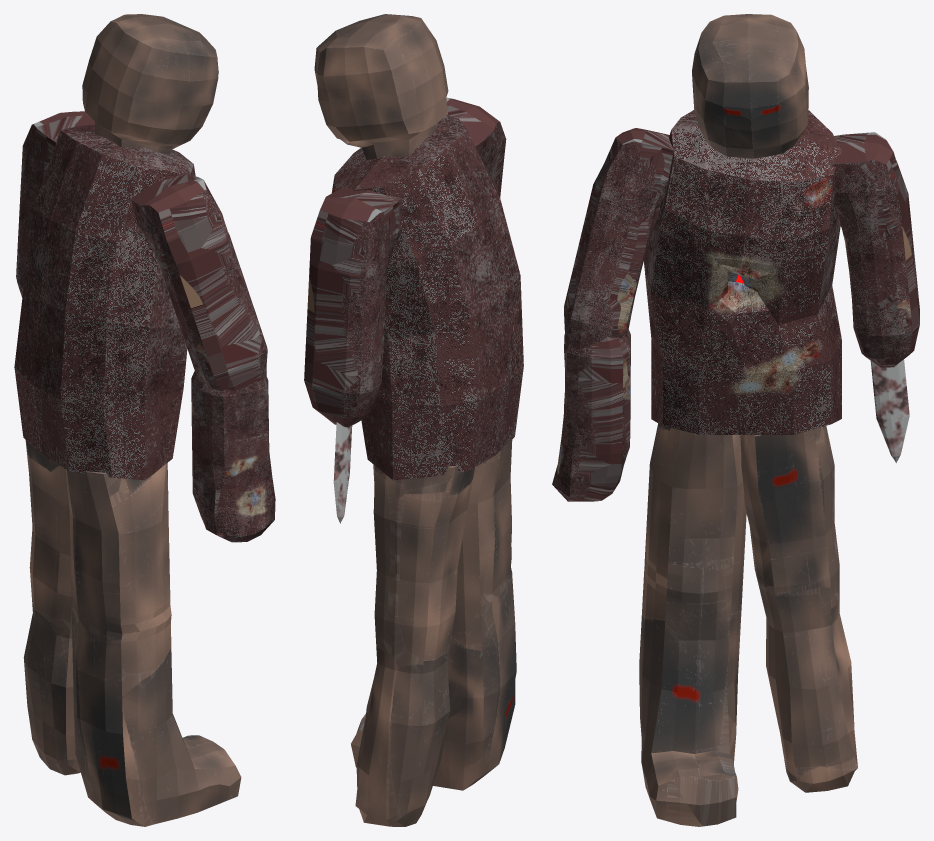
File: monsterTextured.fbx
The picture shows the model from 3 angles, left to right: view 1: azimuth 30°, elevation 25°; view 2: azimuth 150°, elevation 25°; view 3: azimuth 270°, elevation 25°; orthographic projection. The views are drawn at different scales.
Parts seen in each view (by area): view 1: Cube, Cube.018, Cube.017, Cube.001, Cube.026, Cube.016, Cube.002; view 2: Cube, Cube.026, Cube.018, Cube.002, Cube.001, Cube.017, Cube.007; view 3: Cube, Cube.018, Cube.026, Cube.002, Cube.001, Cube.017, Cube.016, Cube.007.
Part boxes in pixels (<box>): Cube: <box>14,124,195,480</box>; Cube.018: <box>65,463,241,826</box>; Cube.017: <box>131,173,267,391</box>; Cube.001: <box>82,14,218,154</box>; Cube.026: <box>23,440,80,775</box>; Cube.016: <box>191,371,275,542</box>; Cube.002: <box>16,111,94,297</box>; Cube: <box>331,114,523,480</box>; Cube.026: <box>355,464,474,826</box>; Cube.018: <box>351,440,516,790</box>; Cube.002: <box>304,187,401,427</box>; Cube.001: <box>314,14,448,160</box>; Cube.017: <box>446,97,506,198</box>; Cube.007: <box>333,422,352,523</box>; Cube: <box>644,110,841,434</box>; Cube.018: <box>639,423,746,826</box>; Cube.026: <box>740,426,857,792</box>; Cube.002: <box>828,132,919,367</box>; Cube.001: <box>692,14,808,158</box>; Cube.017: <box>564,128,675,349</box>; Cube.016: <box>552,329,630,501</box>; Cube.007: <box>870,359,909,462</box>.
Bounding box in the file's own units: 211 × 862 × 366.
